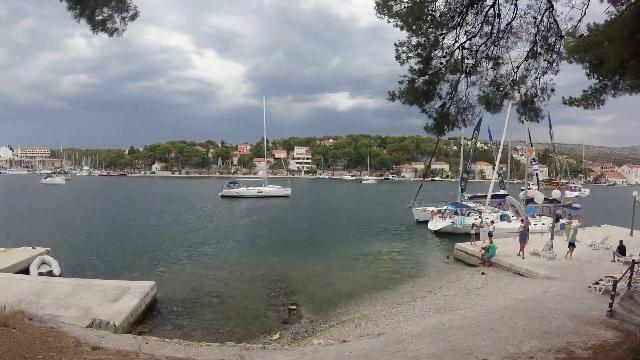Sailboat: (210, 176, 298, 202), (37, 170, 71, 188)
speedboat: (360, 175, 384, 187)
